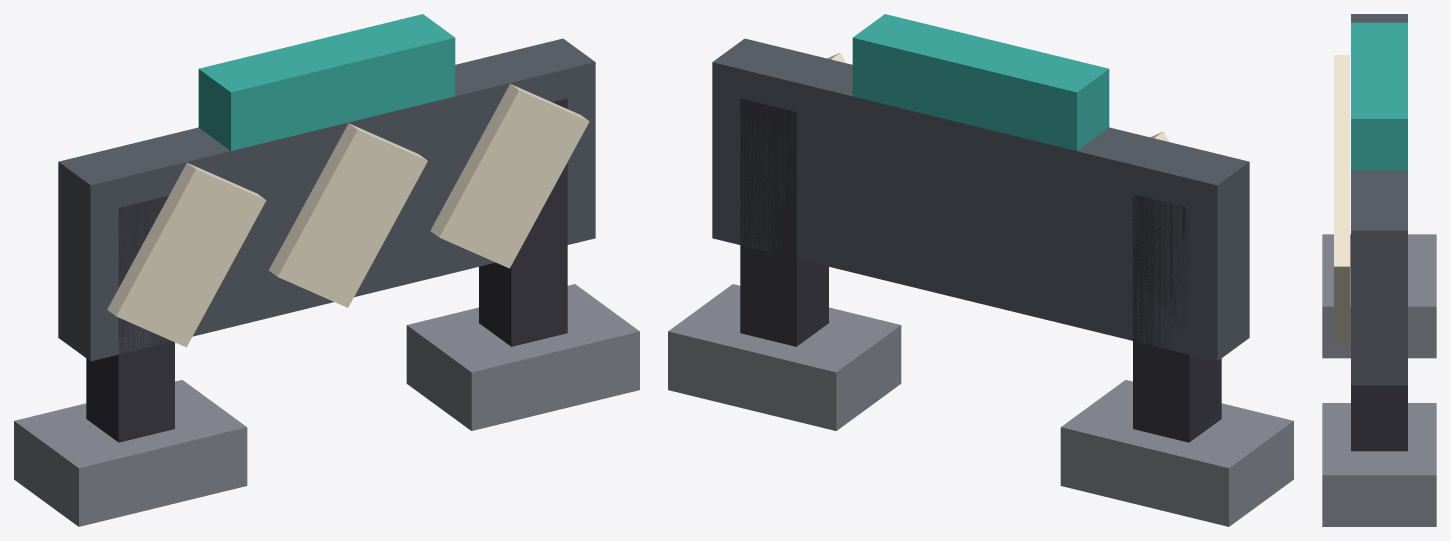
Rendered from scene__barricade.glb.
3 views of the same model, side by side, from view 1: azimuth 30°, elevation 25°; view 2: azimuth 150°, elevation 25°; view 3: azimuth 270°, elevation 25° (orthographic). The views are drawn at different scales.
Bounding box in the file's own units: 1.25 × 0.8125 × 0.25.
